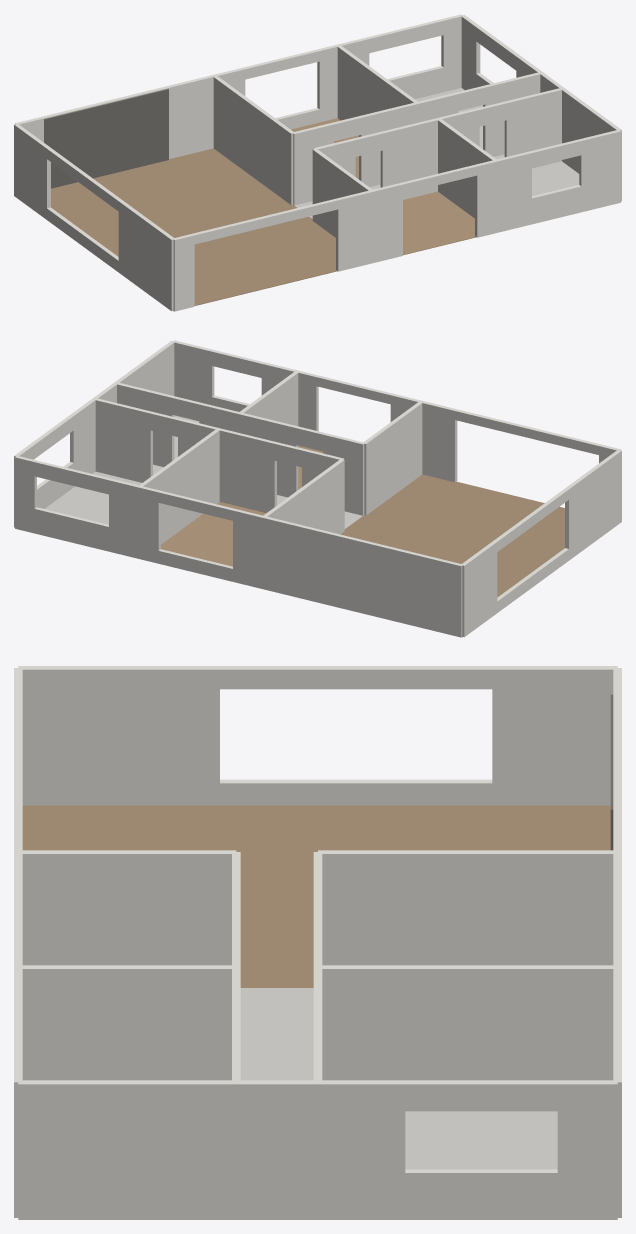
File: house-BUhF-cHb.glb
3 renders of one model, top to bottom at view 1: azimuth 30°, elevation 25°; view 2: azimuth 150°, elevation 25°; view 3: azimuth 270°, elevation 25°, orthographic. The views are drawn at different scales.
Visible parts, largest first — view 1: Shell; view 2: Shell; view 3: Shell.
Boxes of the visible parts, left/top/right/bottom form: Shell: left=14, top=14, right=621, bottom=311; Shell: left=14, top=340, right=621, bottom=637; Shell: left=14, top=666, right=621, bottom=1219.
Bounding box in the file's own units: 18.16 × 2.77 × 11.16.
